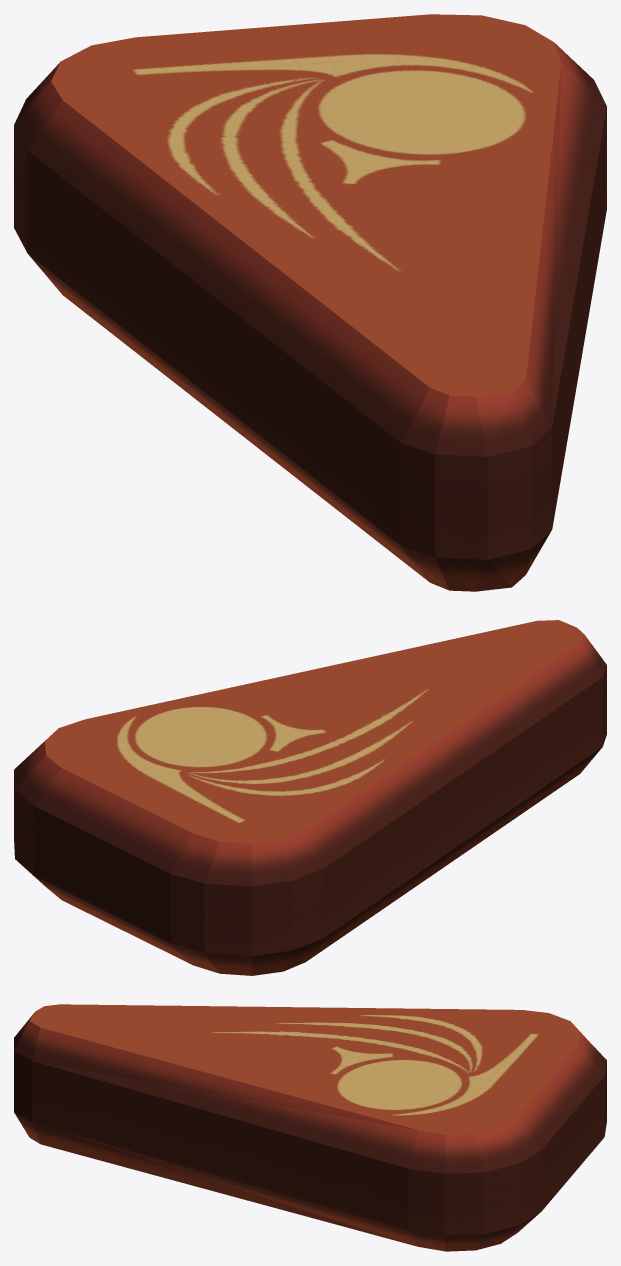
The model's file is tribumper.fbx.
3 renders of one model, top to bottom at view 1: azimuth 30°, elevation 25°; view 2: azimuth 150°, elevation 25°; view 3: azimuth 270°, elevation 25°, orthographic. The views are drawn at different scales.
Visible parts, largest first — view 1: Col; view 2: Col; view 3: Col.
Part boxes in pixels (bbox=[...]): Col: bbox=[14, 14, 606, 591]; Col: bbox=[14, 620, 606, 975]; Col: bbox=[14, 1004, 606, 1251].
Bounding box in the file's own units: 0.9186 × 0.3312 × 1.52.
Materials: 1 (1 with a texture image).
